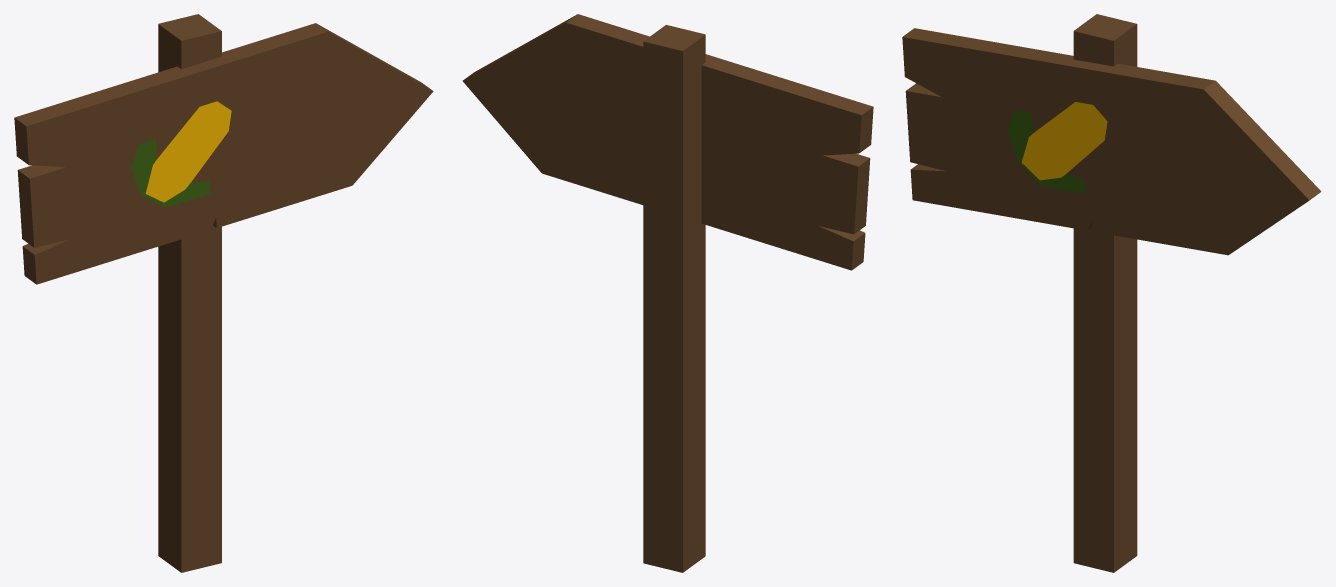
File: Sign_Wooden_Corn_01.fbx
The picture shows the model from 3 angles, left to right: view 1: azimuth 30°, elevation 25°; view 2: azimuth 150°, elevation 25°; view 3: azimuth 330°, elevation 25°; orthographic projection.
Visible parts, largest first — view 1: Model, Group1; view 2: Model, Group1; view 3: Model, Group1.
Part boxes in pixels (x1=…): Model: x1=14, y1=23, x2=433, y2=284; Group1: x1=158, y1=14, x2=221, y2=572; Model: x1=462, y1=14, x2=873, y2=270; Group1: x1=643, y1=25, x2=705, y2=572; Model: x1=902, y1=28, x2=1321, y2=255; Group1: x1=1073, y1=14, x2=1137, y2=572.
Size of the model in its own units: 436 by 545 by 58.24.
